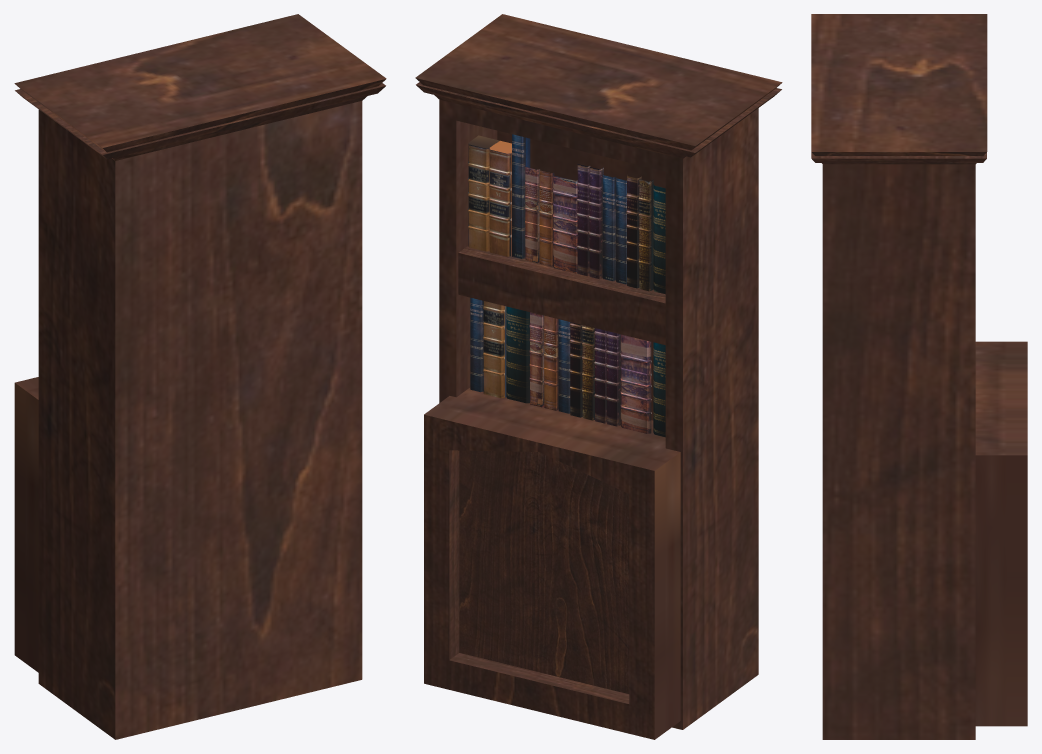
Rendered from EstanteDeLivros1.fbx.
3 views of the same model, side by side, from view 1: azimuth 30°, elevation 25°; view 2: azimuth 150°, elevation 25°; view 3: azimuth 270°, elevation 25° (orthographic).
Parts seen in each view (by area): view 1: Estante de livros 1; view 2: Estante de livros 1; view 3: Estante de livros 1.
Part boxes in pixels (bbox=[...]): Estante de livros 1: bbox=[14, 14, 386, 739]; Estante de livros 1: bbox=[415, 14, 782, 739]; Estante de livros 1: bbox=[811, 14, 1027, 739].
Size of the model in its own units: 205 by 415 by 136.
